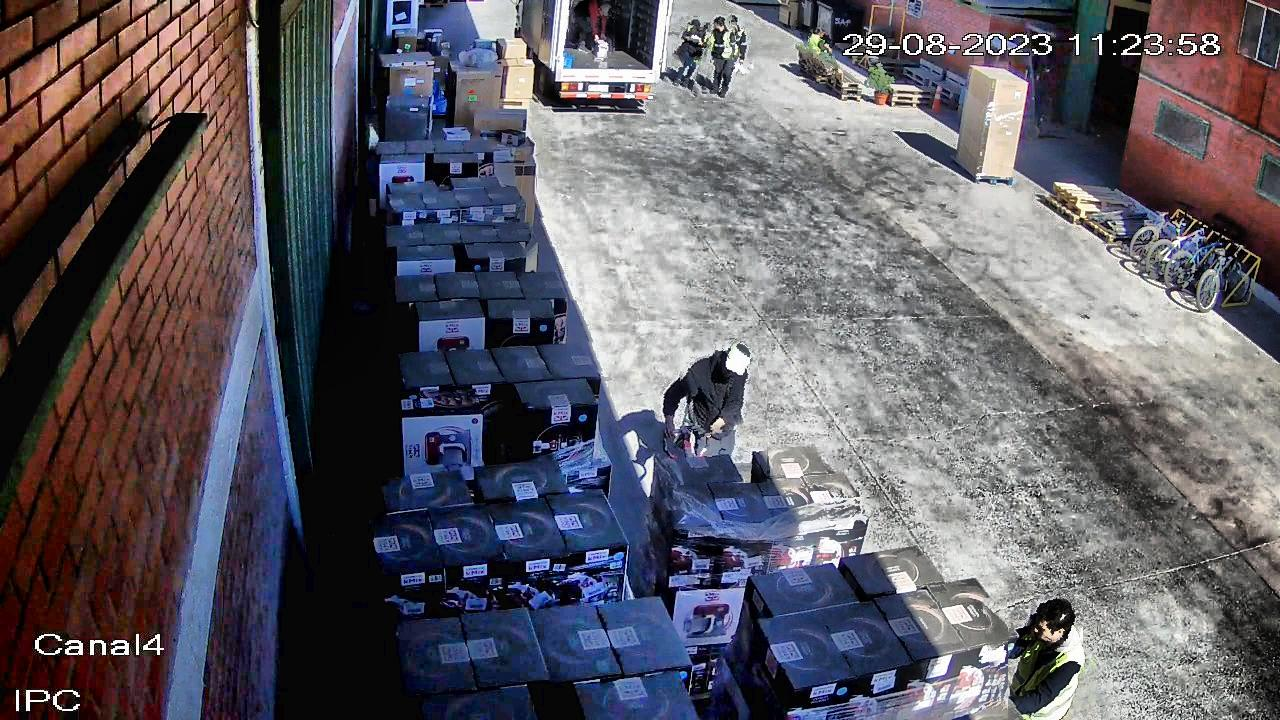con-casco: (713, 338, 758, 381), (598, 0, 614, 18)
con-chaleco: (1008, 622, 1096, 720), (674, 25, 711, 67), (709, 24, 737, 60), (809, 34, 830, 60)
persona: (650, 330, 767, 484), (985, 589, 1096, 720), (698, 10, 754, 104), (667, 16, 715, 96), (566, 0, 615, 60), (804, 27, 835, 76)
sin-casco: (1024, 597, 1083, 651), (710, 12, 731, 31), (685, 17, 705, 32), (814, 28, 829, 41)
sin-chaleco: (681, 347, 759, 430), (573, 0, 605, 22)
